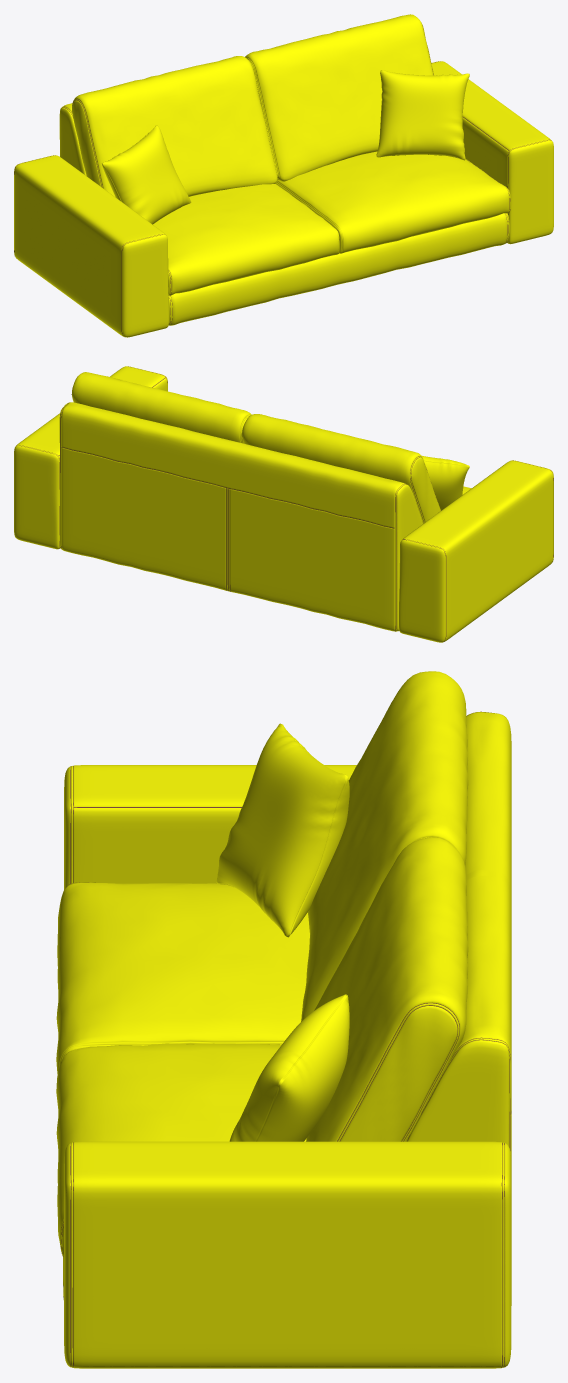
The picture shows the model from 3 angles, top to bottom: view 1: azimuth 30°, elevation 25°; view 2: azimuth 150°, elevation 25°; view 3: azimuth 270°, elevation 25°; orthographic projection. The views are drawn at different scales.
Parts seen in each view (by area): view 1: bodyred, left5, rightarm5; view 2: bodyred, left5, rightarm5; view 3: bodyred, rightarm5, left5.
Part boxes in pixels (x1,y1,x2,y2): bodyred: [59, 14, 510, 325]; left5: [14, 155, 168, 337]; rightarm5: [431, 61, 553, 244]; bodyred: [59, 372, 471, 631]; left5: [399, 460, 553, 642]; rightarm5: [14, 366, 167, 549]; bodyred: [56, 671, 511, 1305]; rightarm5: [64, 1141, 511, 1368]; left5: [64, 765, 356, 889].
Size of the model in its own units: 2.04 by 0.7698 by 0.9321.
Materials: 7 (5 with a texture image).
